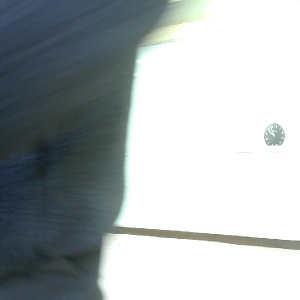Drone: (14, 2, 300, 300)
